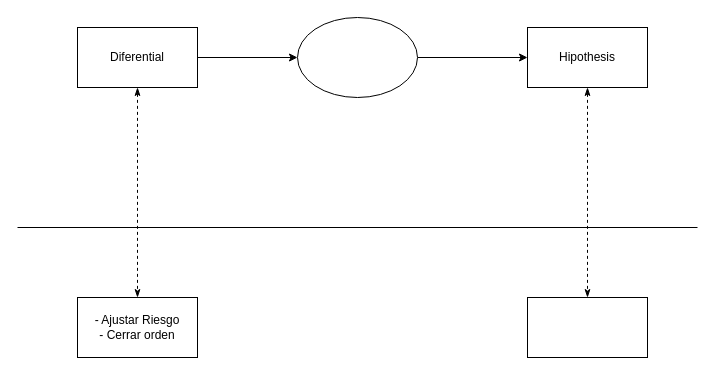
The diagram is 716 pixels wide and 375 high, and some of its shapes have lost their labels. Here are the shapes that lost their labels. From the top down, the box of each, then its label:
(296, 16, 418, 98): Select
(526, 296, 648, 358): - Ajustar Riesgo
